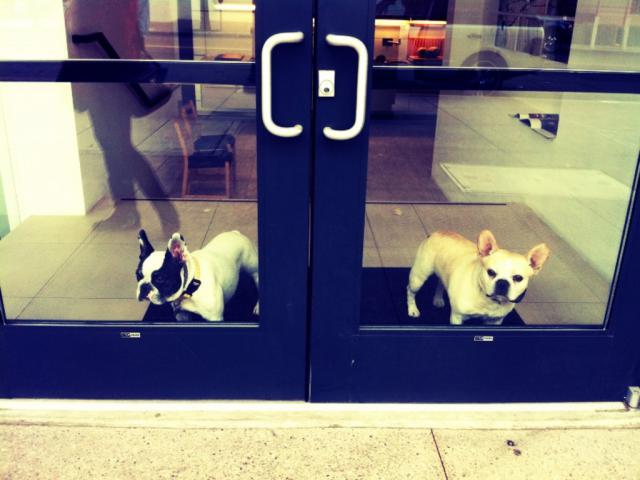Door-handle: (262, 26, 308, 140), (324, 34, 370, 142)
